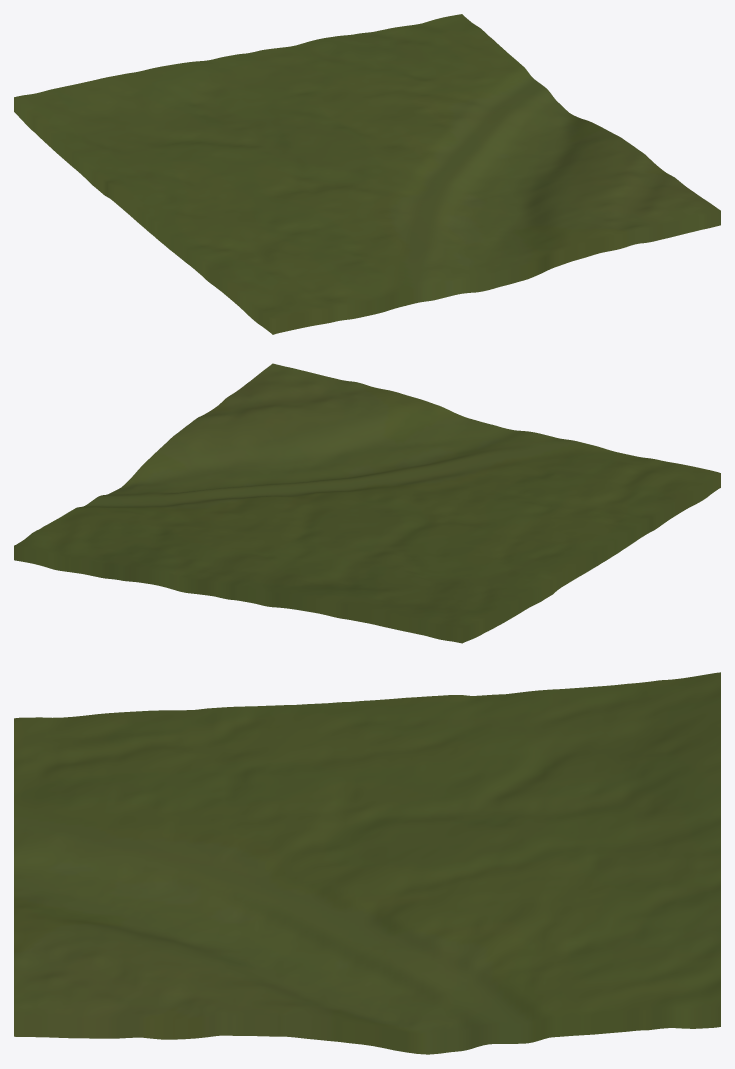
File: terrain_0_-2.glb
3 views of the same model, one above another, from view 1: azimuth 30°, elevation 25°; view 2: azimuth 150°, elevation 25°; view 3: azimuth 270°, elevation 25° (orthographic). The views are drawn at different scales.
Parts seen in each view (by area): view 1: terrain_0_-2; view 2: terrain_0_-2; view 3: terrain_0_-2.
Part boxes in pixels (x1=…): terrain_0_-2: x1=14, y1=14, x2=720, y2=334; terrain_0_-2: x1=14, y1=363, x2=720, y2=643; terrain_0_-2: x1=14, y1=672, x2=720, y2=1054.
Bounding box in the file's own units: 256 × 33.37 × 256.
